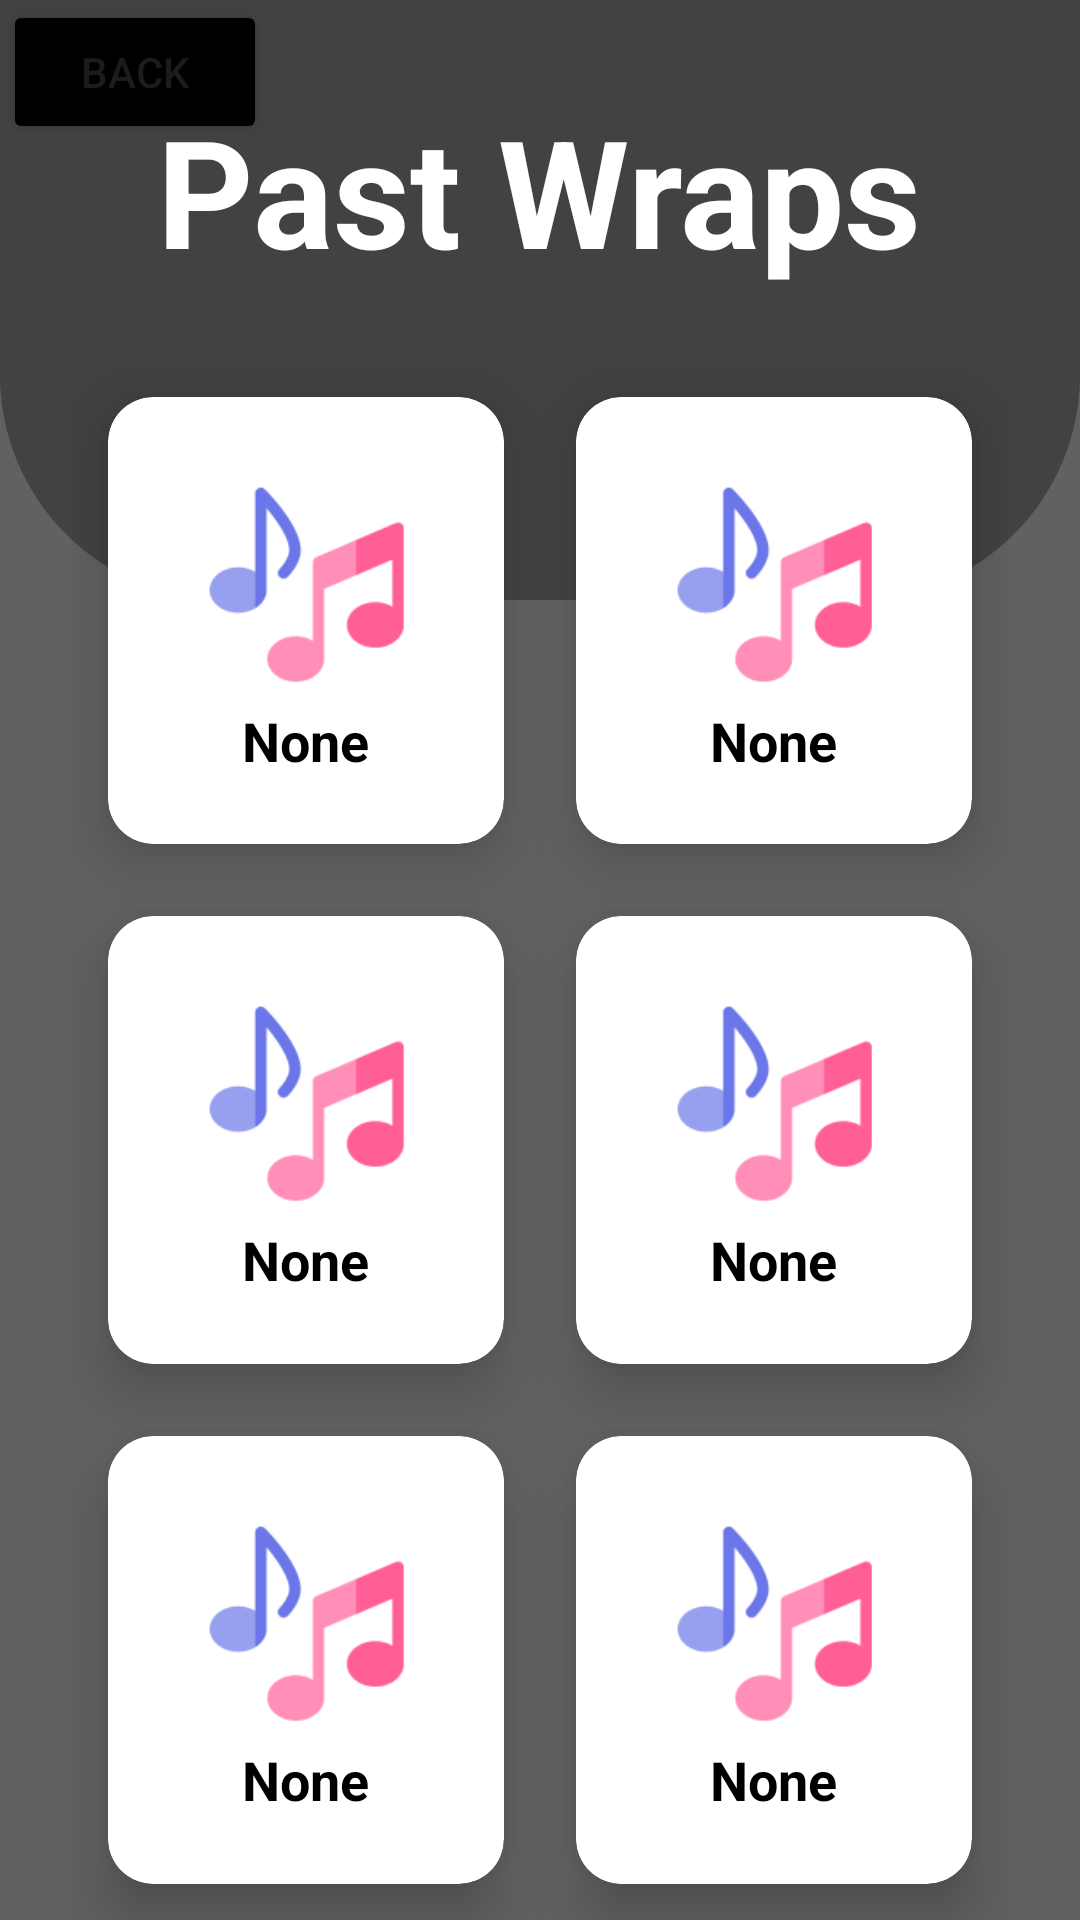

Icon click points for this 1080×1920 phone screenshot, format (x,y):
musicalnote: (306,584), (774,584), (306,1103), (774,1103), (306,1623), (774,1623)
